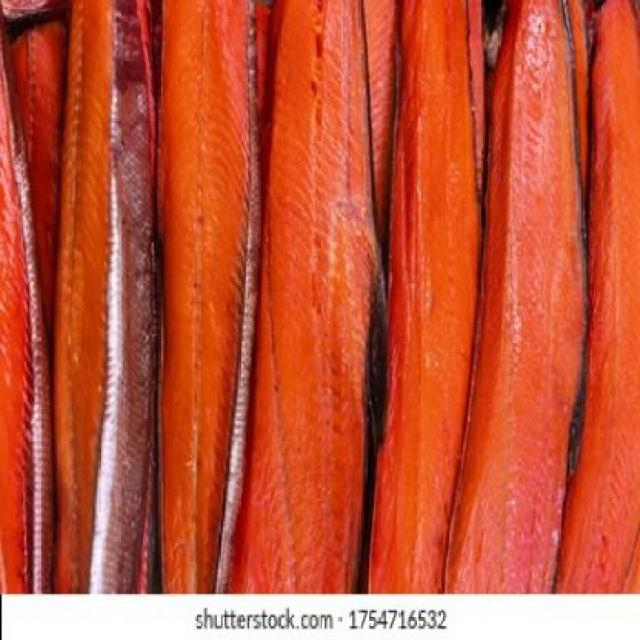salmon: (443, 19, 595, 592), (380, 5, 490, 592), (150, 12, 248, 600), (268, 8, 362, 595), (38, 8, 124, 600)
